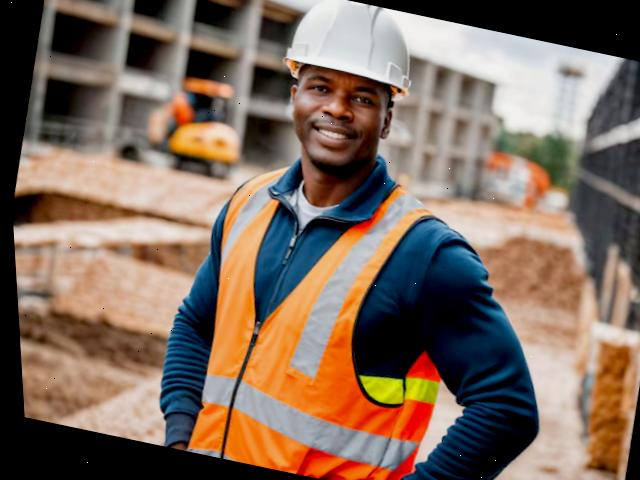helmet: (278, 0, 423, 94)
vest: (169, 152, 482, 480)
